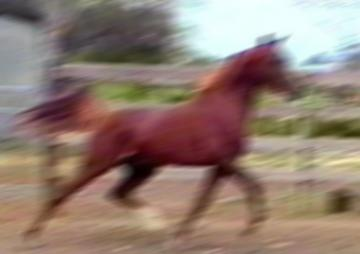horse: (6, 32, 305, 250)
